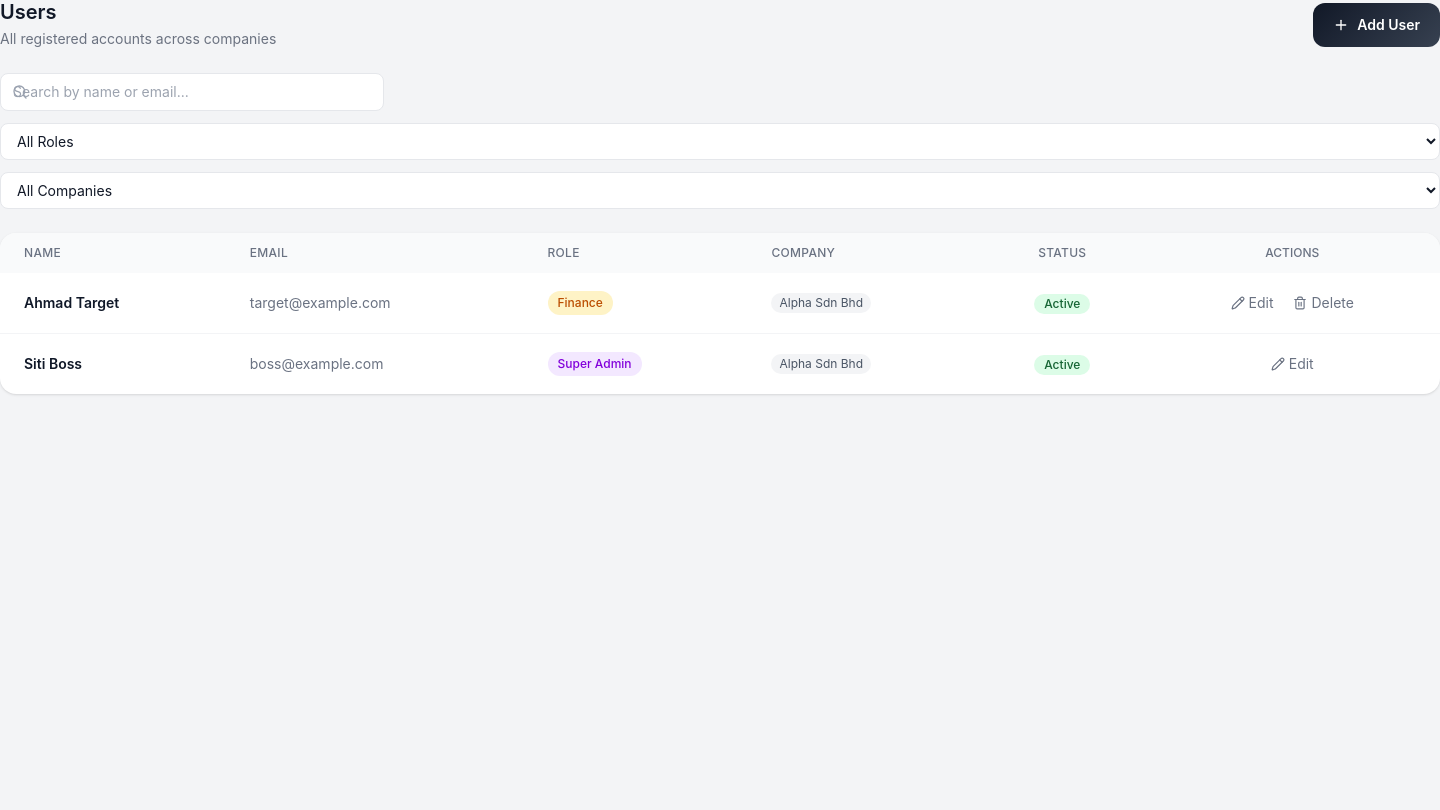
UserManagement — create form › gives every field an accessible name
Click the button "Add User".
click(1377, 24)  # box [1313,2,1439,46]
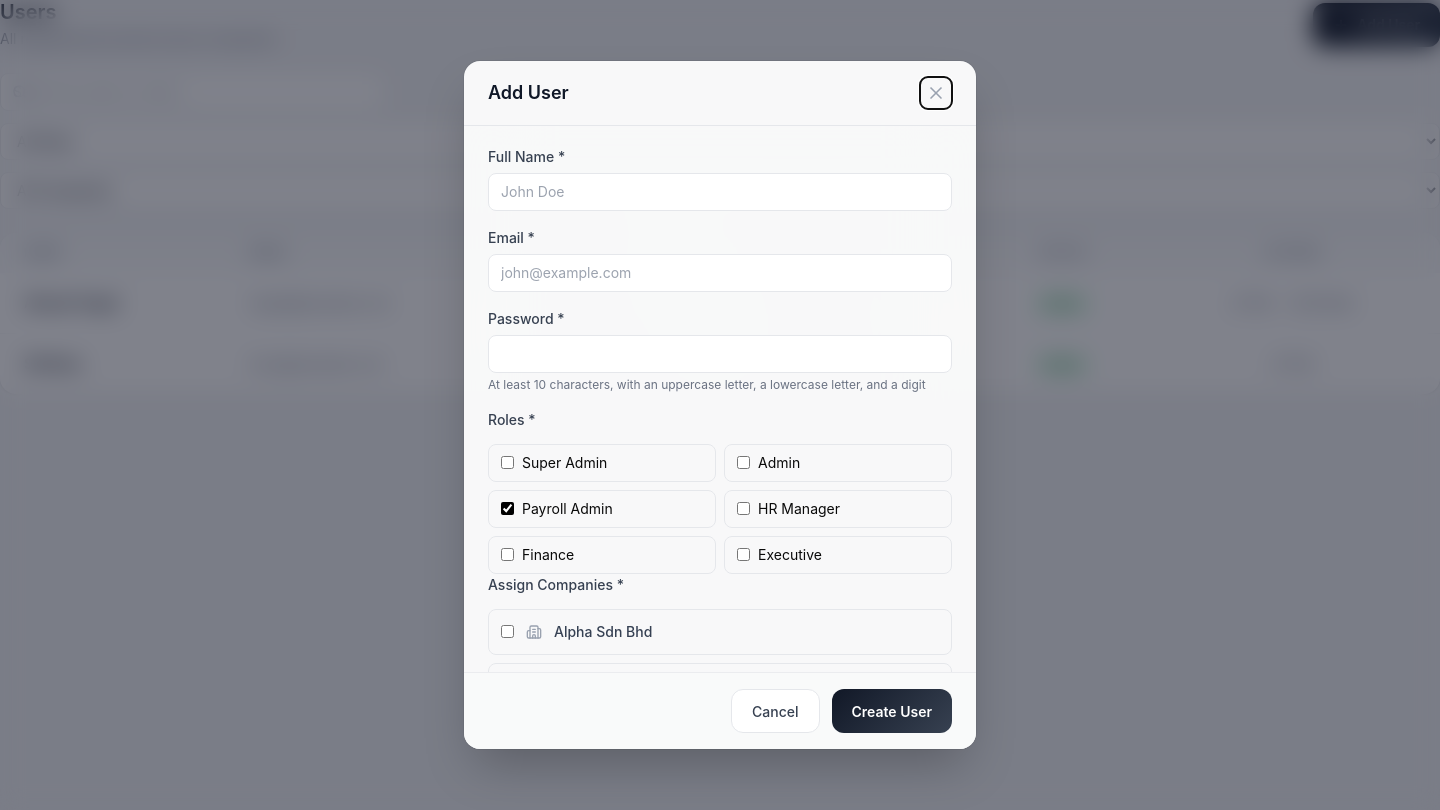
Expected: the field labelled "Full Name *" is shown, [488,173,952,211]
Expected: the field labelled "Email *" is shown, [488,254,952,292]
Expected: the password field labelled "Password *" is shown, [488,335,952,373]
